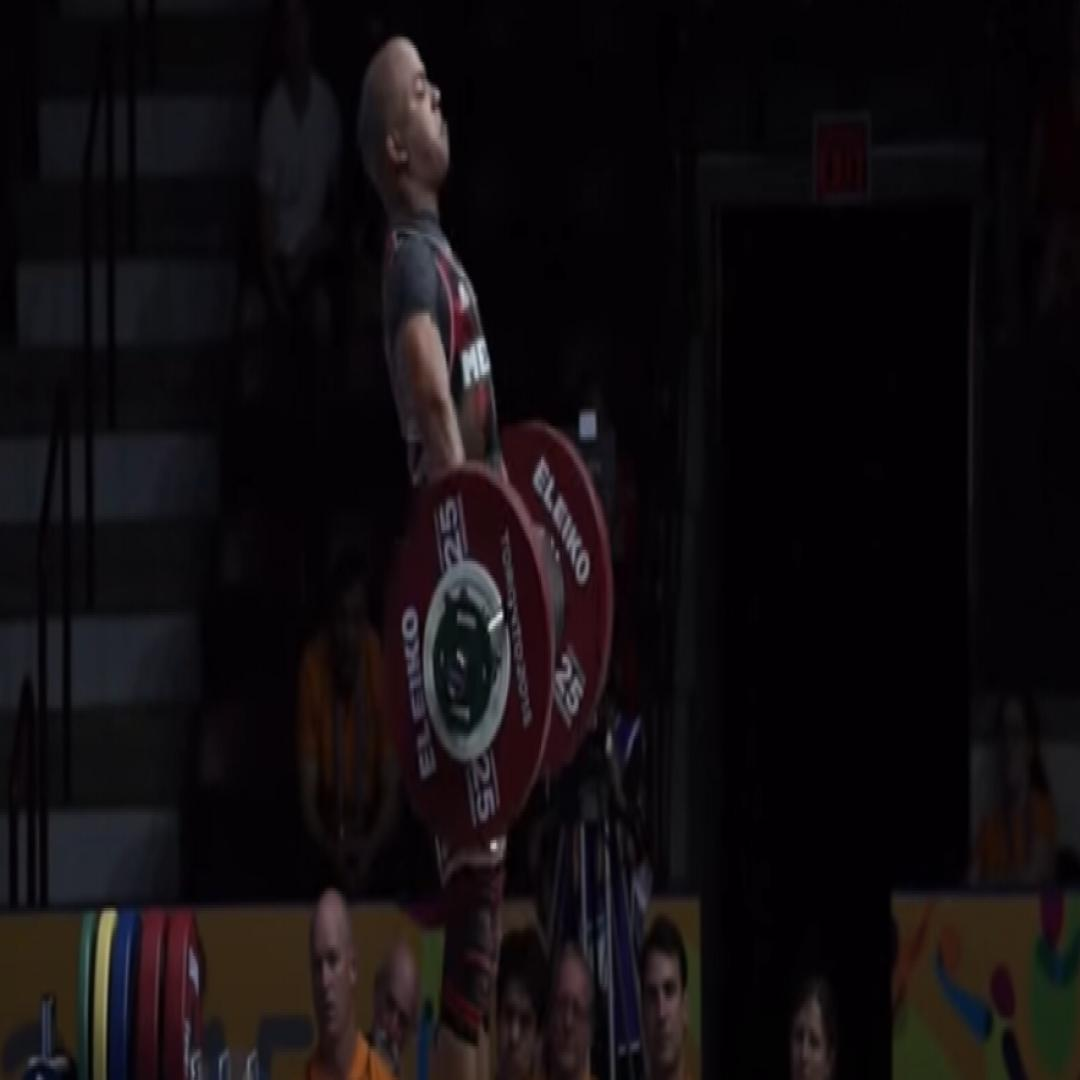Bar: (446, 651, 467, 705)
Barbell: (387, 468, 551, 838)
